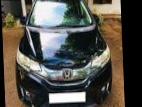car: (6, 0, 113, 107)
